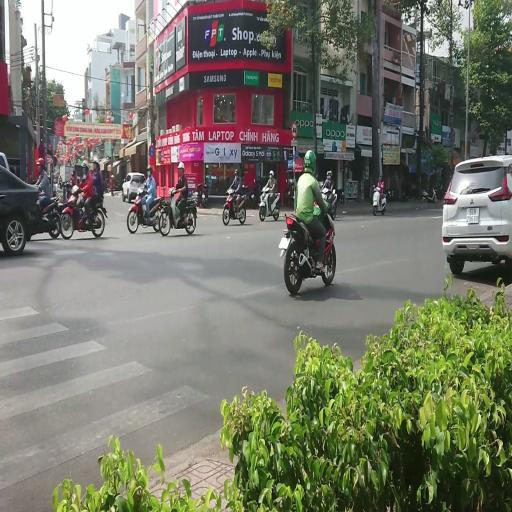bikes: (278, 196, 336, 295), (0, 183, 62, 255), (59, 185, 106, 239), (126, 186, 170, 234), (159, 188, 197, 236), (33, 184, 61, 238), (222, 188, 247, 226), (258, 188, 280, 222), (319, 183, 337, 220), (243, 178, 262, 208), (54, 176, 72, 202), (372, 184, 386, 216), (191, 183, 208, 207), (283, 178, 296, 205), (422, 188, 437, 204), (340, 190, 345, 204)
helmet: (303, 150, 316, 173), (294, 157, 303, 172), (70, 171, 77, 186), (35, 157, 45, 166), (93, 158, 100, 170), (71, 184, 79, 194), (81, 160, 89, 169), (326, 170, 332, 180), (46, 154, 52, 164), (178, 162, 184, 170), (146, 165, 152, 173), (378, 182, 384, 190), (325, 179, 331, 187), (234, 168, 240, 175), (137, 187, 143, 194), (294, 151, 300, 158), (228, 188, 234, 194), (269, 170, 274, 177), (197, 184, 202, 190), (82, 174, 86, 181), (71, 171, 76, 176), (378, 175, 382, 181), (110, 174, 114, 178)
